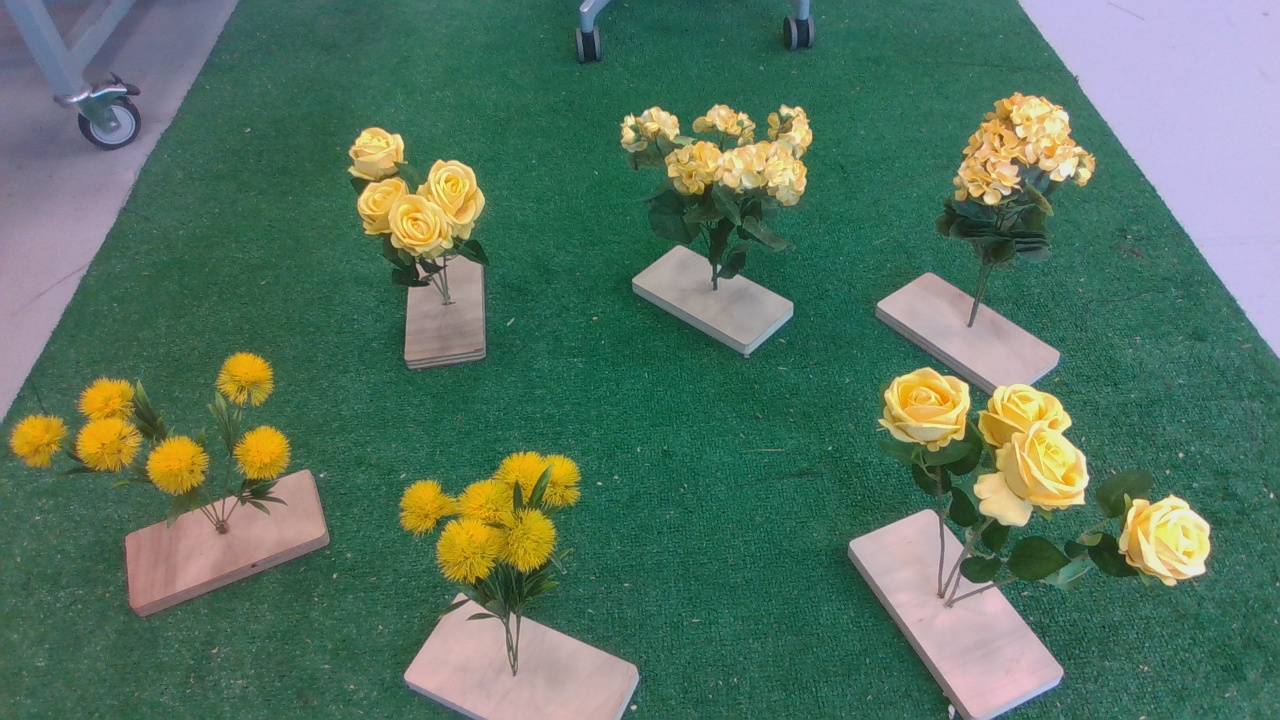dandelion: (9, 341, 309, 529), (397, 450, 595, 619)
geranium: (617, 89, 826, 278), (936, 91, 1105, 279)
rose: (876, 363, 1226, 603), (325, 118, 502, 295)
